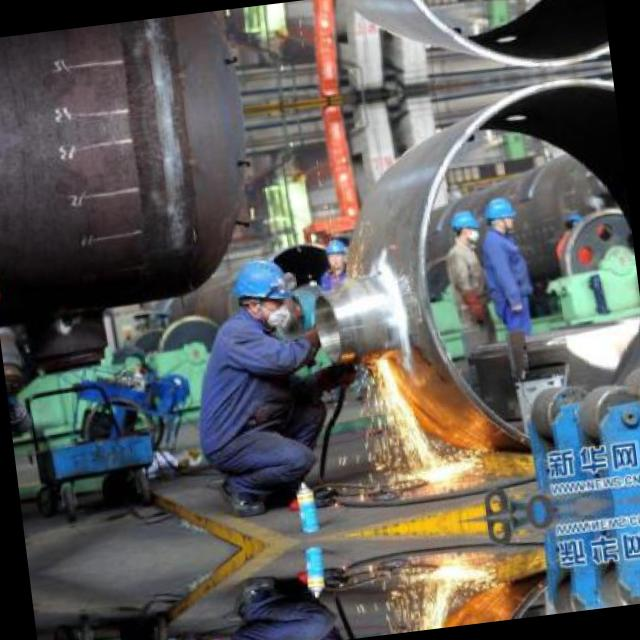helmet: (224, 258, 291, 326), (476, 190, 518, 236), (447, 206, 480, 246), (320, 235, 346, 268)
